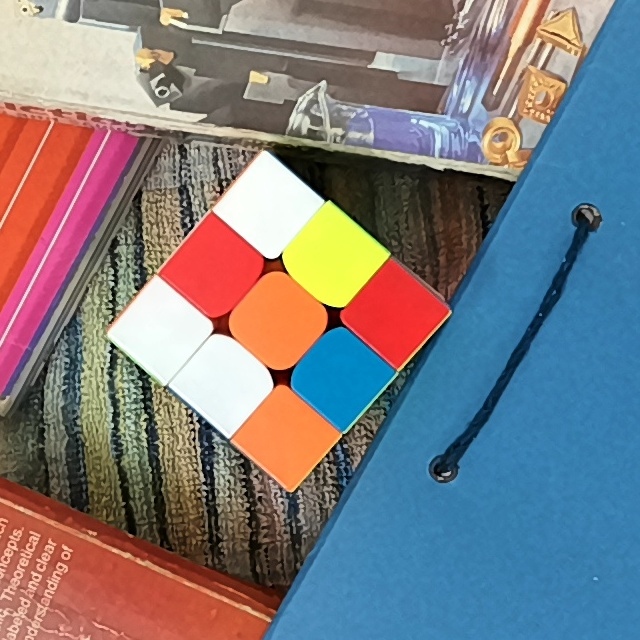tile: (240, 178, 297, 232), (315, 347, 369, 403), (190, 242, 246, 296), (253, 291, 305, 348), (261, 411, 315, 464), (198, 356, 251, 410), (370, 285, 422, 339), (135, 303, 185, 357), (309, 231, 361, 282)
